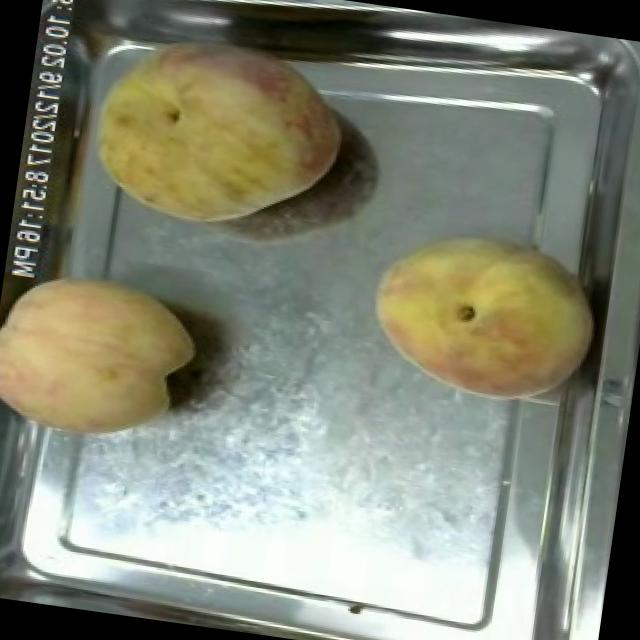Fruit: (69, 10, 363, 253), (352, 211, 612, 422), (0, 254, 212, 463)
